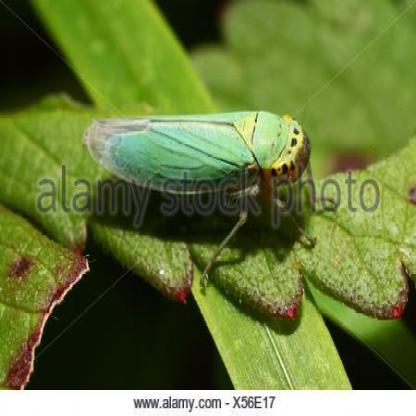Green-Leafhopper: (81, 108, 319, 286)
